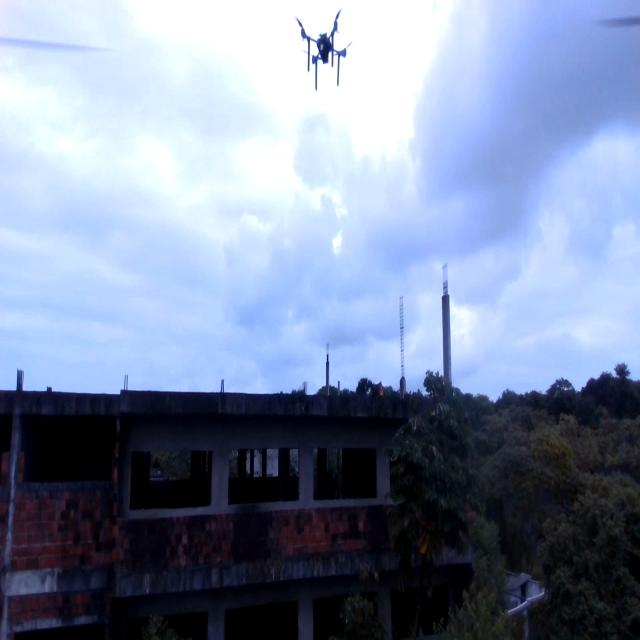-uav-: (291, 1, 359, 100)
